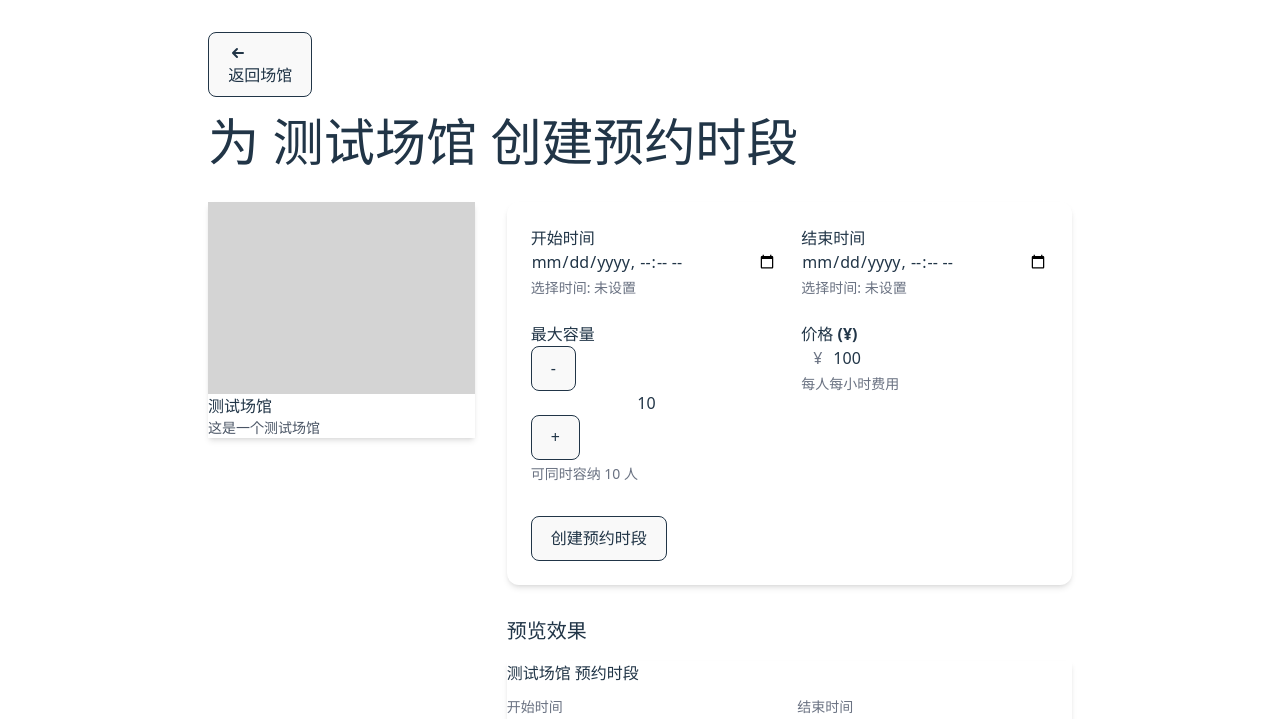
ScheduleCreate › 格式化时间显示
Check: the button "创建预约时段" is shown, box [531, 516, 667, 561]
Step 1. Type "2023-12-31T23:59" into the field labelled "开始时间" → (654, 262), box [531, 250, 777, 274]
(page scrolled)
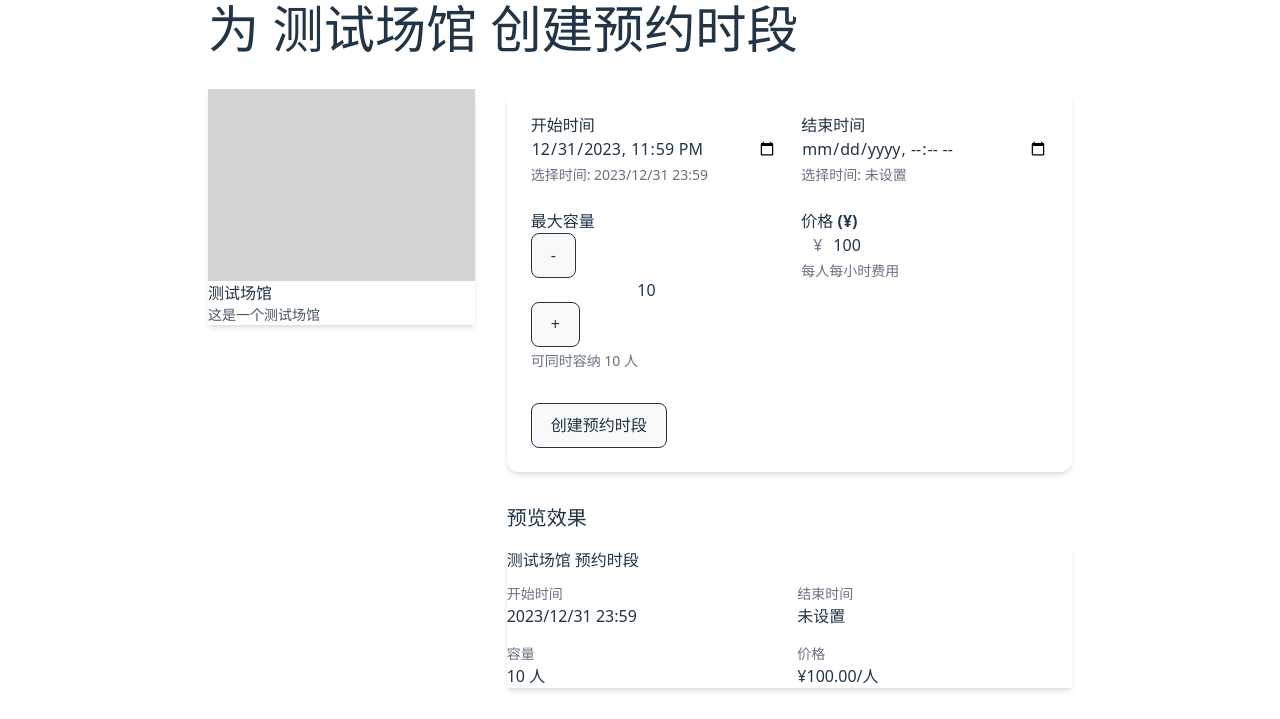
Check: the text "2023/12/31 23:59" is shown, box [507, 605, 637, 627]
